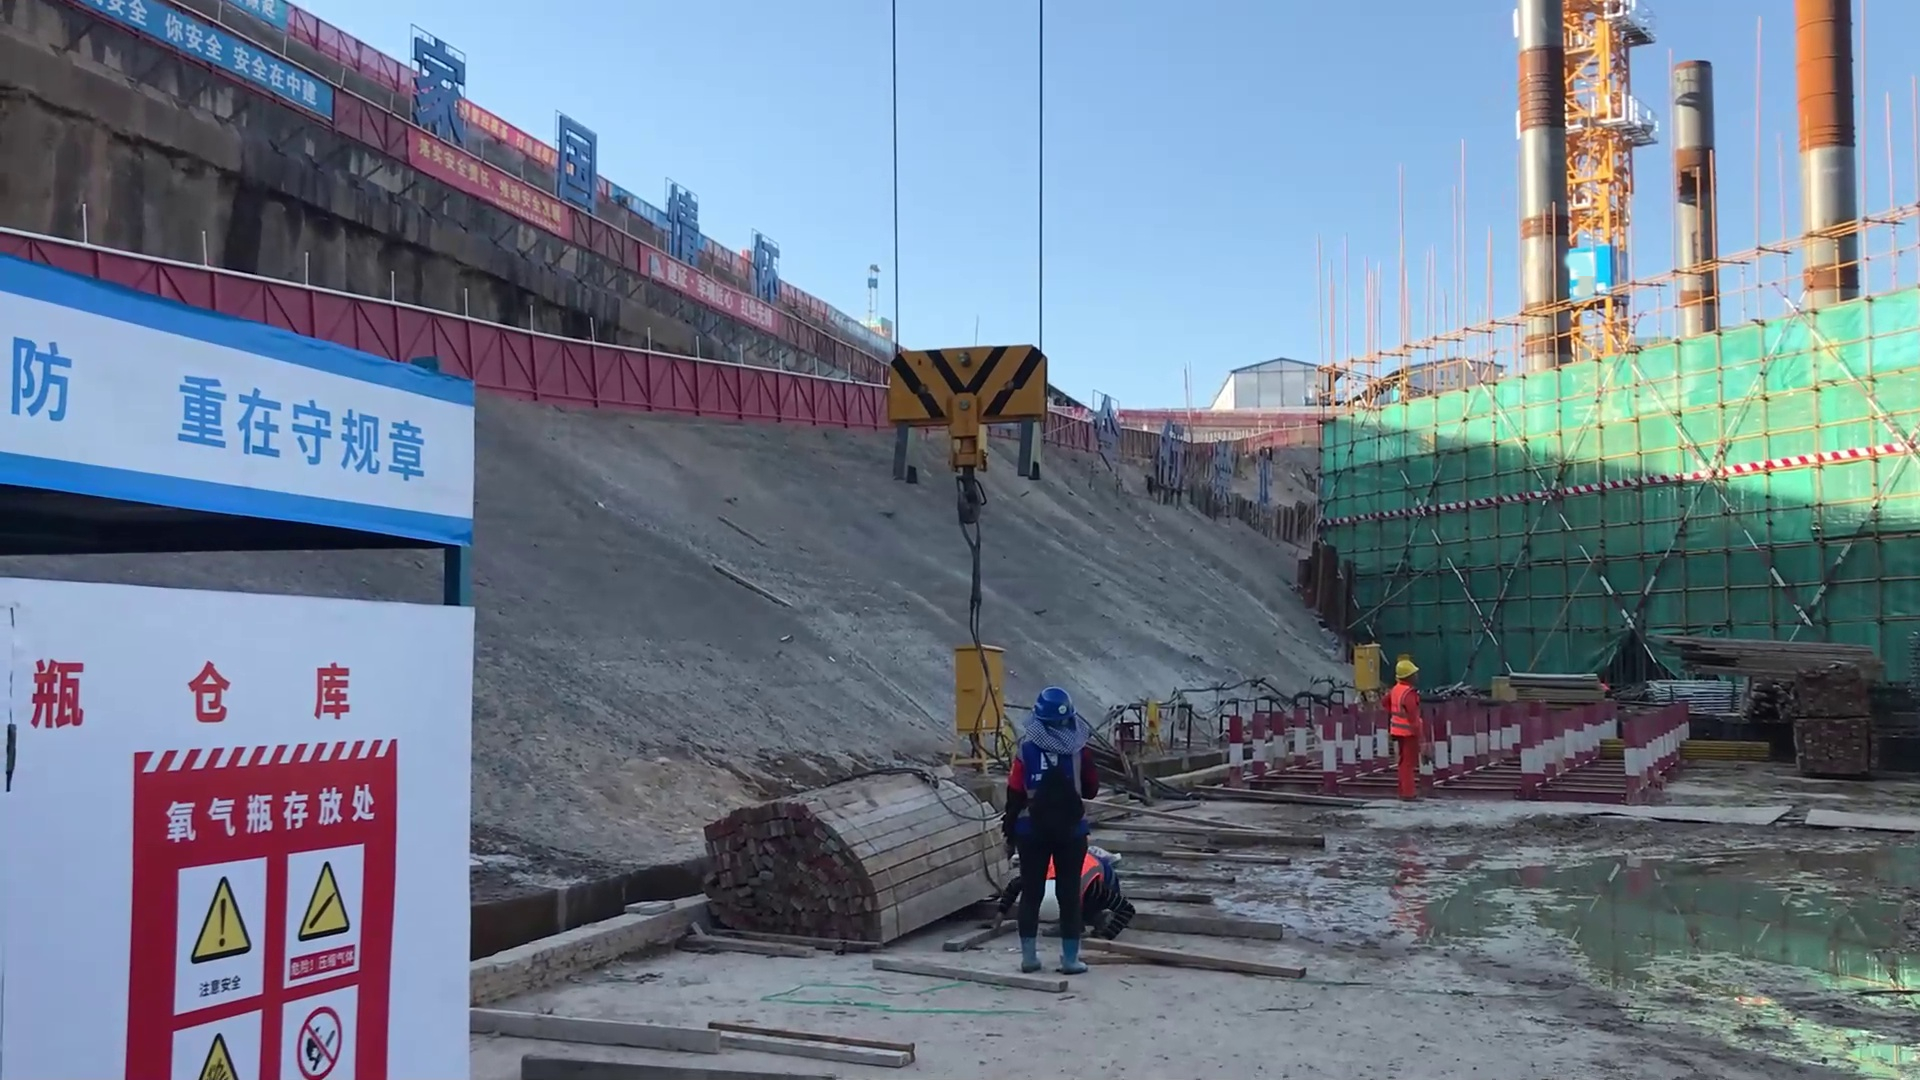ebox: (922, 633, 1019, 757), (1353, 637, 1383, 692)
fence: (475, 335, 863, 423)
helmet: (1011, 677, 1100, 765), (1393, 658, 1421, 679)
hook: (878, 322, 1062, 490)
person: (1009, 685, 1089, 977), (1382, 653, 1440, 809)
slogan: (1, 269, 451, 522), (118, 737, 397, 1080), (89, 1, 323, 137), (367, 126, 573, 264)
vest: (1390, 684, 1425, 758)
wood: (664, 750, 1001, 983), (1656, 618, 1859, 697)
